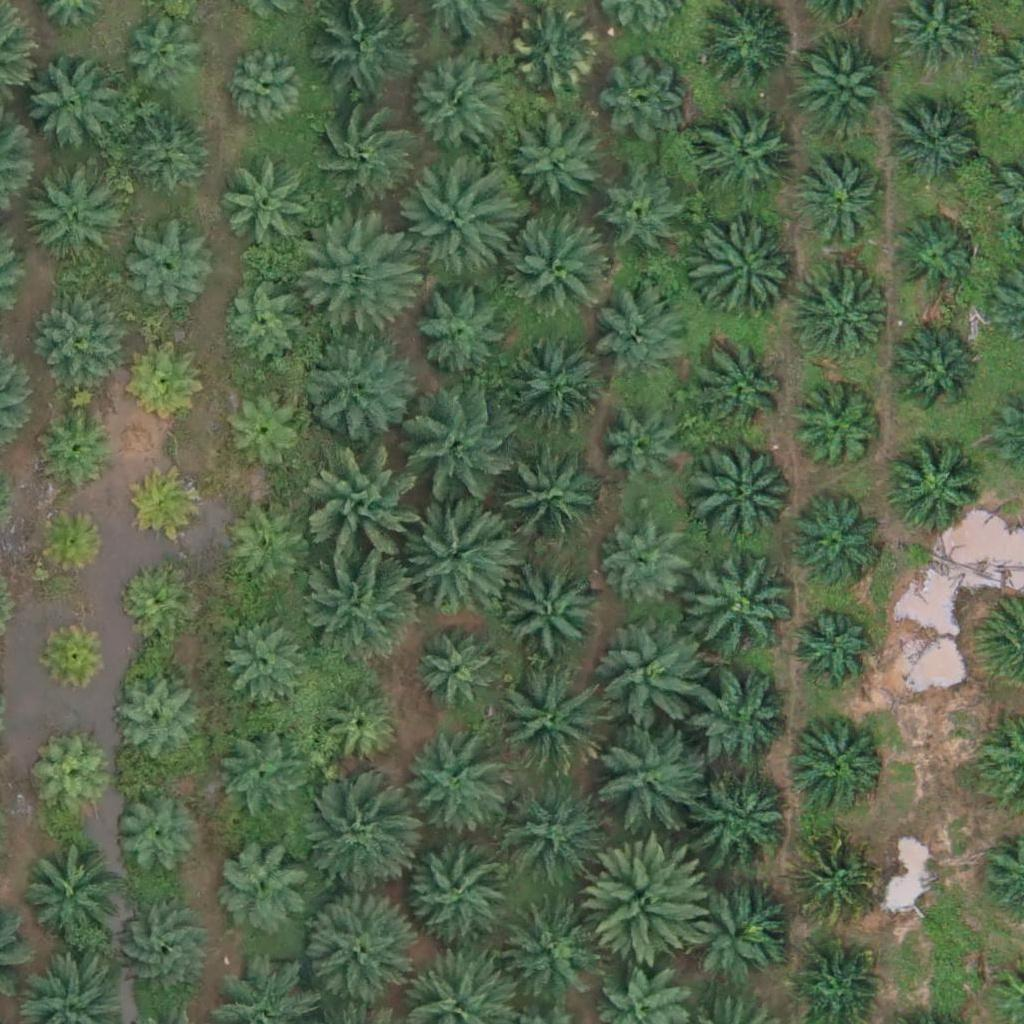Kelapa_Sawit: (587, 839, 712, 965), (589, 717, 702, 831), (490, 446, 603, 560), (491, 665, 604, 778), (495, 777, 608, 890), (402, 832, 515, 945), (299, 893, 412, 1006), (683, 548, 796, 661), (407, 392, 520, 505), (306, 550, 419, 663), (596, 623, 709, 736), (689, 433, 801, 547), (406, 169, 518, 283), (312, 454, 424, 568), (395, 733, 507, 846), (297, 784, 409, 897), (503, 215, 615, 328), (402, 497, 514, 610), (299, 328, 411, 441), (299, 213, 411, 326), (303, 100, 415, 213), (789, 710, 889, 811), (696, 769, 796, 870), (499, 898, 599, 999), (20, 844, 120, 945), (887, 92, 987, 193), (883, 324, 983, 425), (884, 440, 984, 541), (793, 268, 893, 369), (693, 108, 793, 209), (693, 224, 793, 325), (502, 562, 602, 663), (508, 113, 608, 214), (407, 274, 507, 375), (218, 158, 318, 259), (22, 162, 122, 263), (691, 676, 791, 776), (681, 876, 781, 976), (214, 834, 314, 934), (112, 902, 212, 1002), (793, 35, 893, 135), (786, 496, 886, 596), (695, 340, 795, 440), (596, 284, 696, 384), (503, 340, 603, 440), (402, 56, 502, 156), (21, 57, 121, 157), (220, 44, 308, 133), (788, 834, 876, 922), (314, 683, 402, 771), (109, 676, 197, 764), (795, 390, 883, 478), (787, 603, 875, 691), (414, 628, 502, 716), (122, 7, 210, 95), (217, 384, 305, 472), (222, 507, 310, 595), (214, 733, 301, 822), (111, 792, 198, 880), (891, 210, 978, 298), (800, 154, 887, 242), (603, 56, 690, 144), (600, 173, 687, 261), (600, 417, 687, 505), (605, 522, 692, 610), (510, 9, 597, 97), (125, 112, 212, 200), (220, 282, 307, 370), (221, 616, 308, 704), (35, 292, 122, 380), (122, 223, 209, 311), (116, 562, 191, 638), (33, 742, 108, 818), (38, 615, 113, 691), (131, 466, 206, 542), (41, 408, 116, 483), (33, 505, 108, 580), (131, 344, 206, 419)
